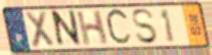1: (159, 7, 175, 46)
C: (104, 6, 134, 49)
H: (75, 9, 110, 48)
N: (51, 8, 83, 50)
S: (130, 8, 160, 46)
X: (23, 10, 57, 50)
